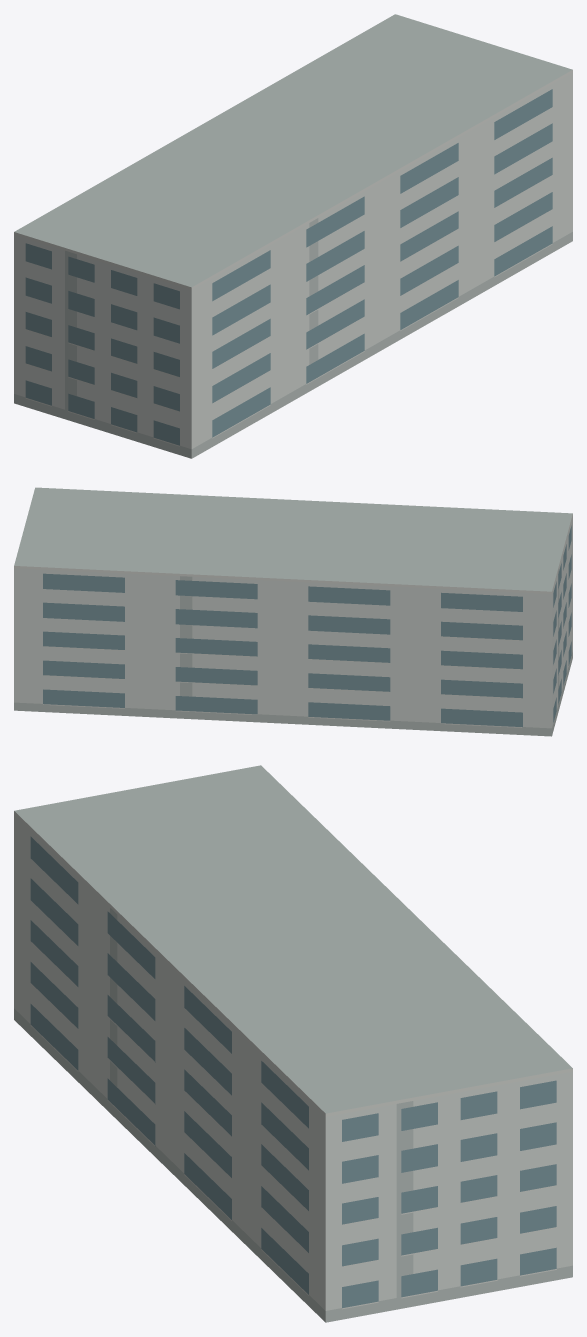
Rendered from residential-9ff1c347-f13b-4a55-98ac-ad7a9842c5a1.glb.
3 renders of one model, top to bottom at view 1: azimuth 30°, elevation 25°; view 2: azimuth 150°, elevation 25°; view 3: azimuth 270°, elevation 25°, orthographic. The views are drawn at different scales.
Visible parts, largest first — view 1: residential-9ff1c347-f13b-4a55-98ac-ad7a9842c5a1.tmp; view 2: residential-9ff1c347-f13b-4a55-98ac-ad7a9842c5a1.tmp; view 3: residential-9ff1c347-f13b-4a55-98ac-ad7a9842c5a1.tmp.
Part boxes in pixels (bbox=[...]): residential-9ff1c347-f13b-4a55-98ac-ad7a9842c5a1.tmp: bbox=[14, 14, 572, 458]; residential-9ff1c347-f13b-4a55-98ac-ad7a9842c5a1.tmp: bbox=[14, 487, 572, 736]; residential-9ff1c347-f13b-4a55-98ac-ad7a9842c5a1.tmp: bbox=[14, 765, 572, 1322].
Size of the model in its own units: 54.51 by 15.25 by 36.96.
